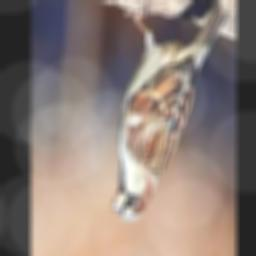Sparrow: (112, 0, 222, 222)
